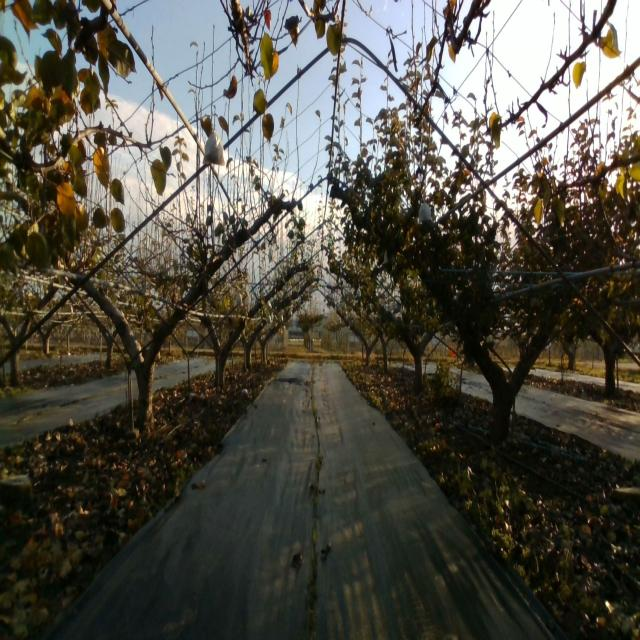pearbags: (202, 128, 225, 168), (418, 197, 432, 223)
